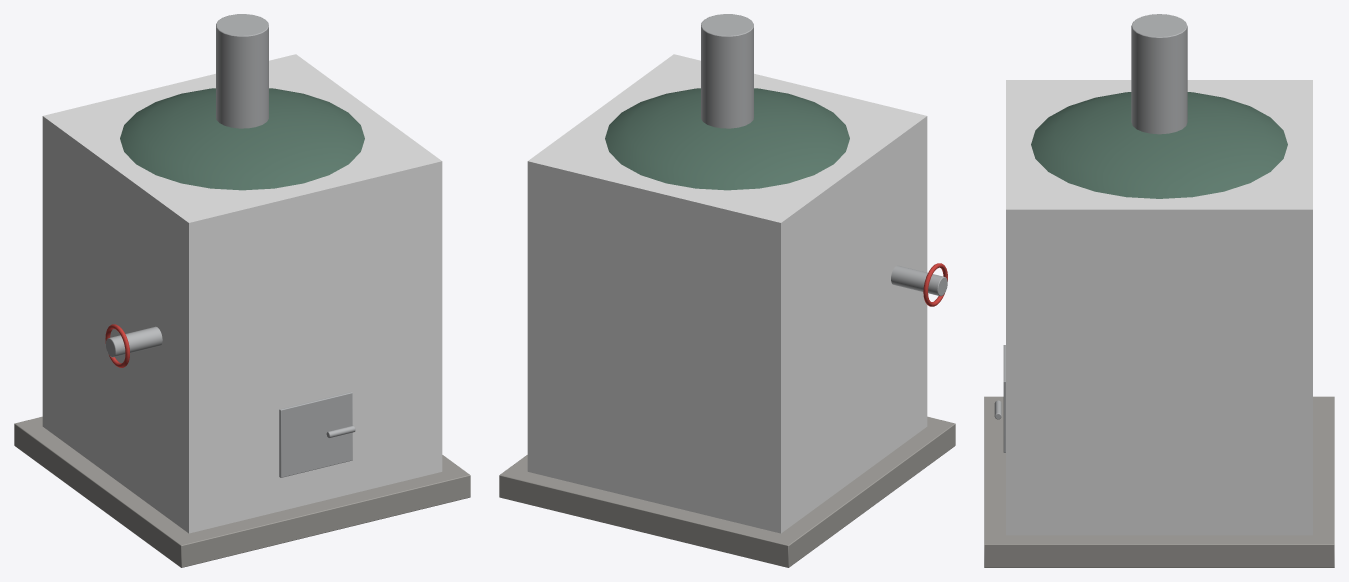
Rendered from boiler.glb.
The picture shows the model from 3 angles, left to right: view 1: azimuth 30°, elevation 25°; view 2: azimuth 150°, elevation 25°; view 3: azimuth 270°, elevation 25°; orthographic projection. The views are drawn at different scales.
Parts seen in each view (by area): view 1: COL_Boiler, Boiler; view 2: COL_Boiler, Boiler; view 3: COL_Boiler, Boiler.
Part boxes in pixels (x1,y1,x2,y2): COL_Boiler: (42, 54, 442, 533); Boiler: (14, 14, 470, 567); COL_Boiler: (527, 54, 927, 533); Boiler: (499, 14, 955, 567); COL_Boiler: (1006, 80, 1312, 535); Boiler: (984, 14, 1334, 567).
Bounding box in the file's own units: 2.2 × 2.95 × 2.
